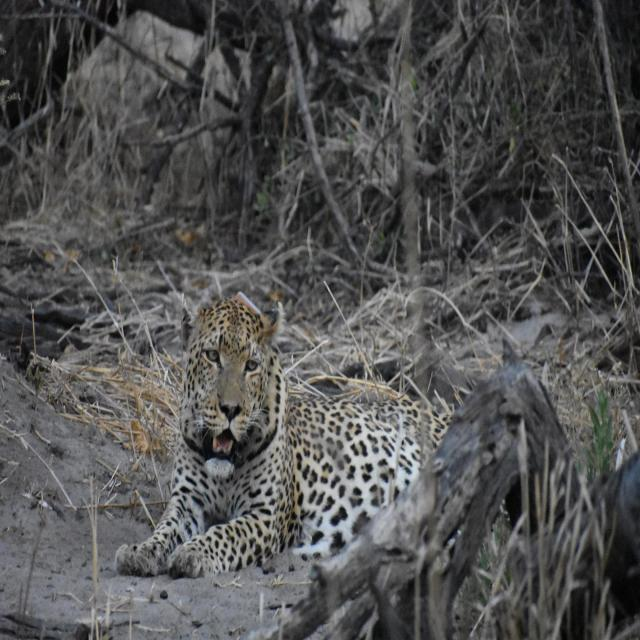Leopard: (100, 294, 459, 582)
